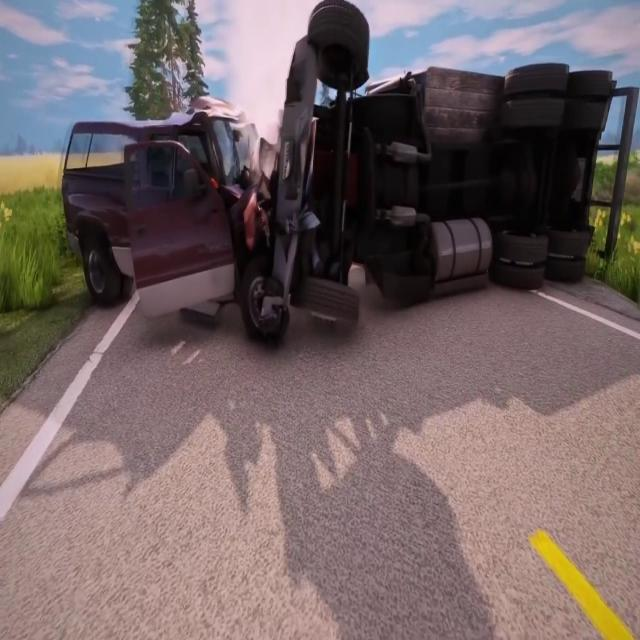accident: (59, 13, 640, 355)
